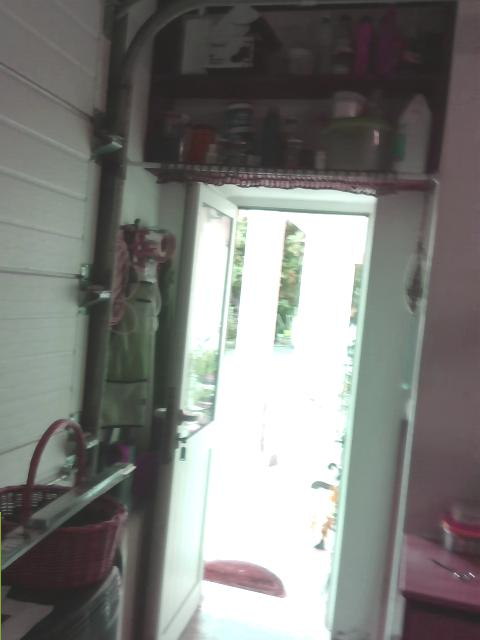open_door: (191, 202, 370, 639)
